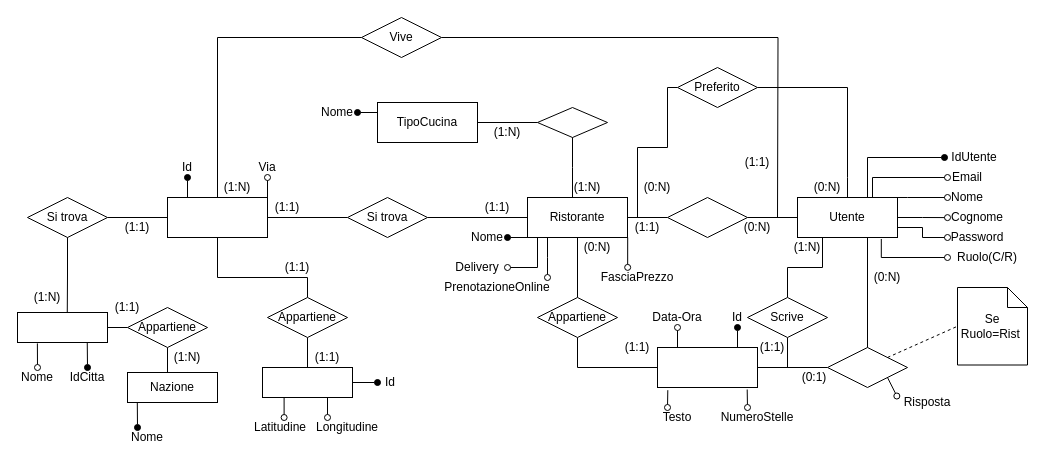
This 1045x465 diagram has some shape labels left out. The shapes that lost their labels are listed below. From the top down, each one's box as (x1, y1, x2, y2) in pixels, then its label:
(536, 106, 608, 138): Offre
(166, 196, 268, 238): Luogo
(666, 196, 748, 238): Possiede
(16, 312, 108, 342): Città
(262, 366, 352, 398): Coordinate
(656, 346, 758, 388): Recensione
(826, 346, 908, 388): Risponde
